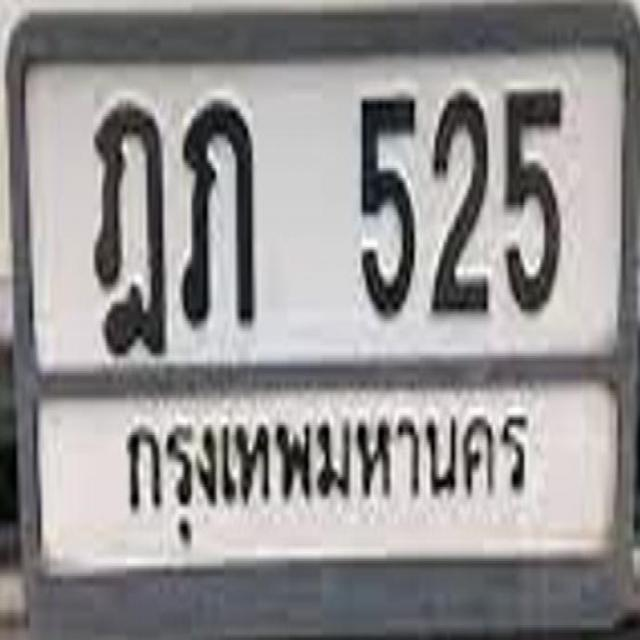2: (430, 88, 489, 313)
5: (502, 86, 561, 311), (357, 93, 416, 316)
A14: (92, 98, 165, 356)
A32: (181, 97, 254, 324)
BKK: (111, 392, 540, 549)
